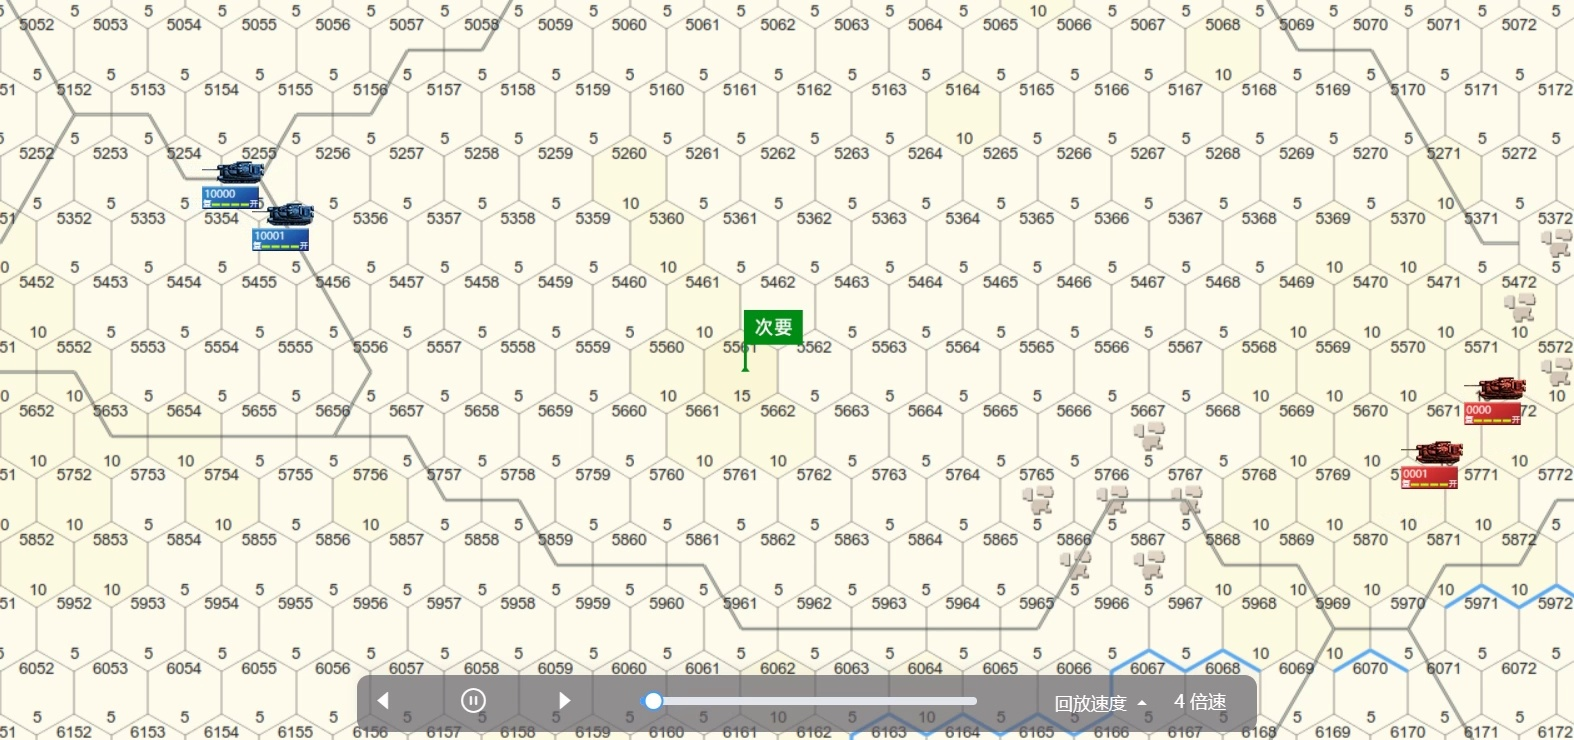blue_tank: (214, 160, 261, 213), (256, 208, 311, 250)
red_tank: (1471, 378, 1532, 432), (1397, 442, 1458, 489)
